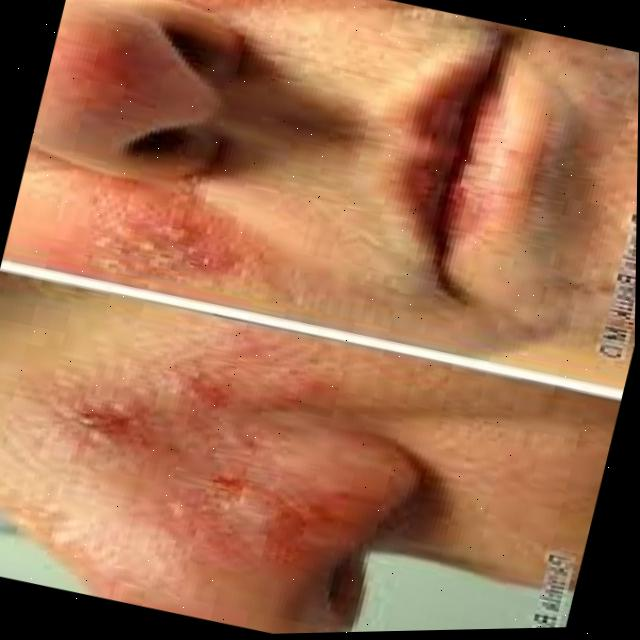Rosacea: (17, 299, 401, 639), (41, 164, 240, 315), (32, 4, 163, 158)
